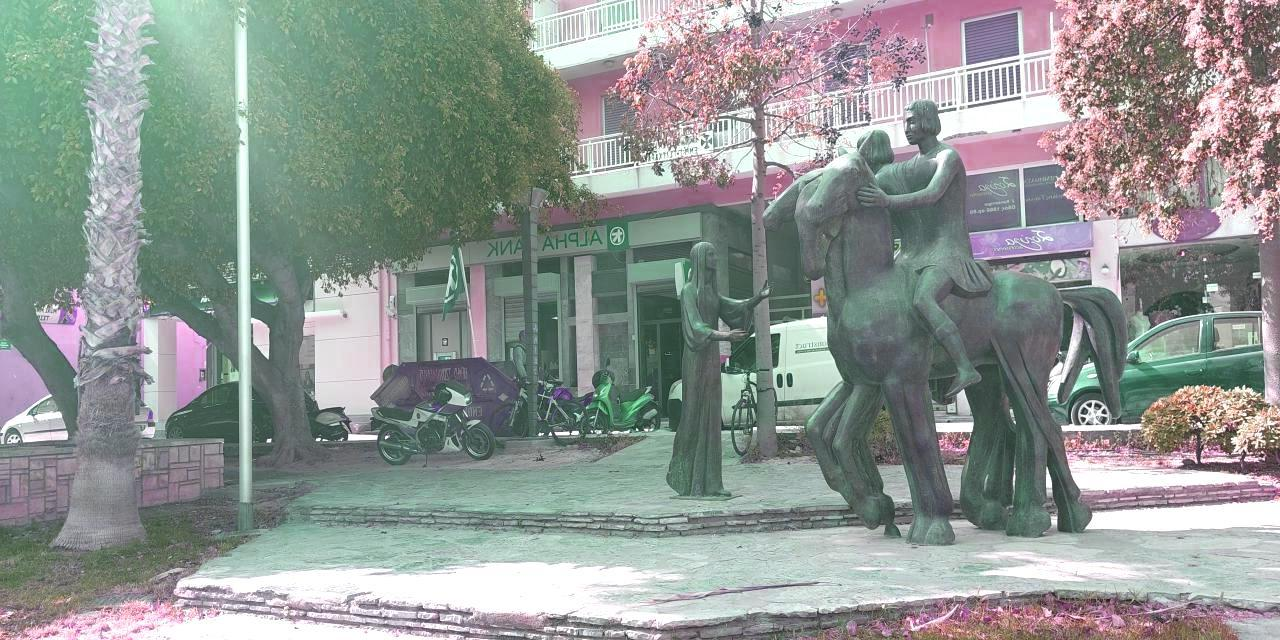Aretousa: (667, 100, 1129, 548)
